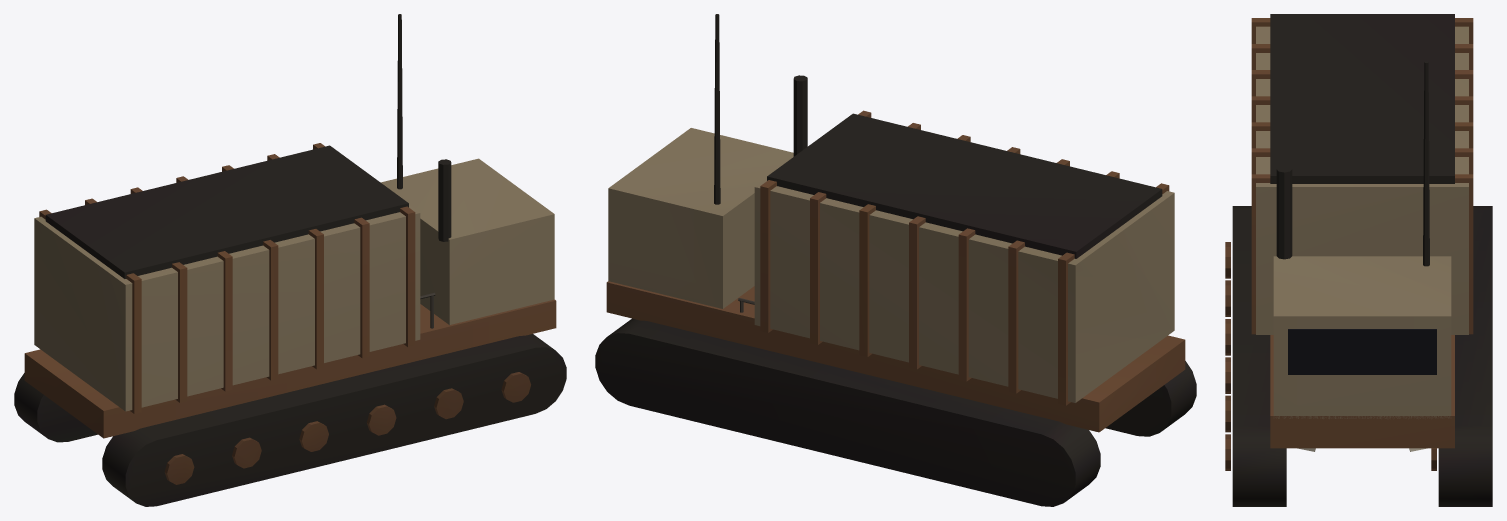
Rendered from course.glb.
3 views of the same model, side by side, from view 1: azimuth 30°, elevation 25°; view 2: azimuth 150°, elevation 25°; view 3: azimuth 270°, elevation 25° (orthographic). The views are drawn at different scales.
Visible parts, largest first — view 1: crawler; view 2: crawler; view 3: crawler.
Part boxes in pixels (bbox=[...]): crawler: bbox=[14, 14, 566, 506]; crawler: bbox=[595, 14, 1196, 506]; crawler: bbox=[1225, 14, 1492, 506].
Size of the model in its own units: 8.63 by 6.46 by 3.76.
